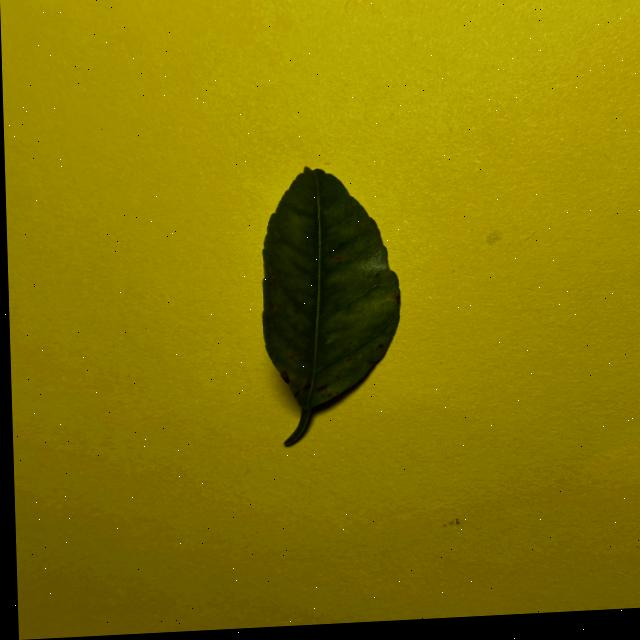greening: (263, 168, 400, 445)
